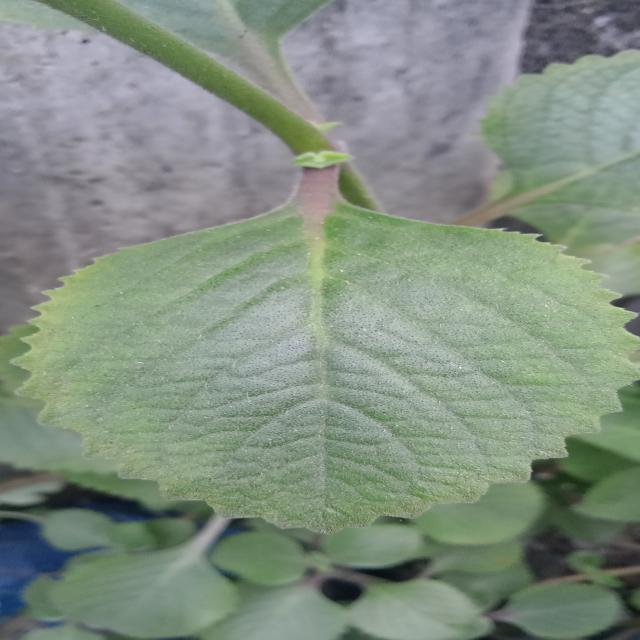Oregano: (45, 126, 640, 569)
